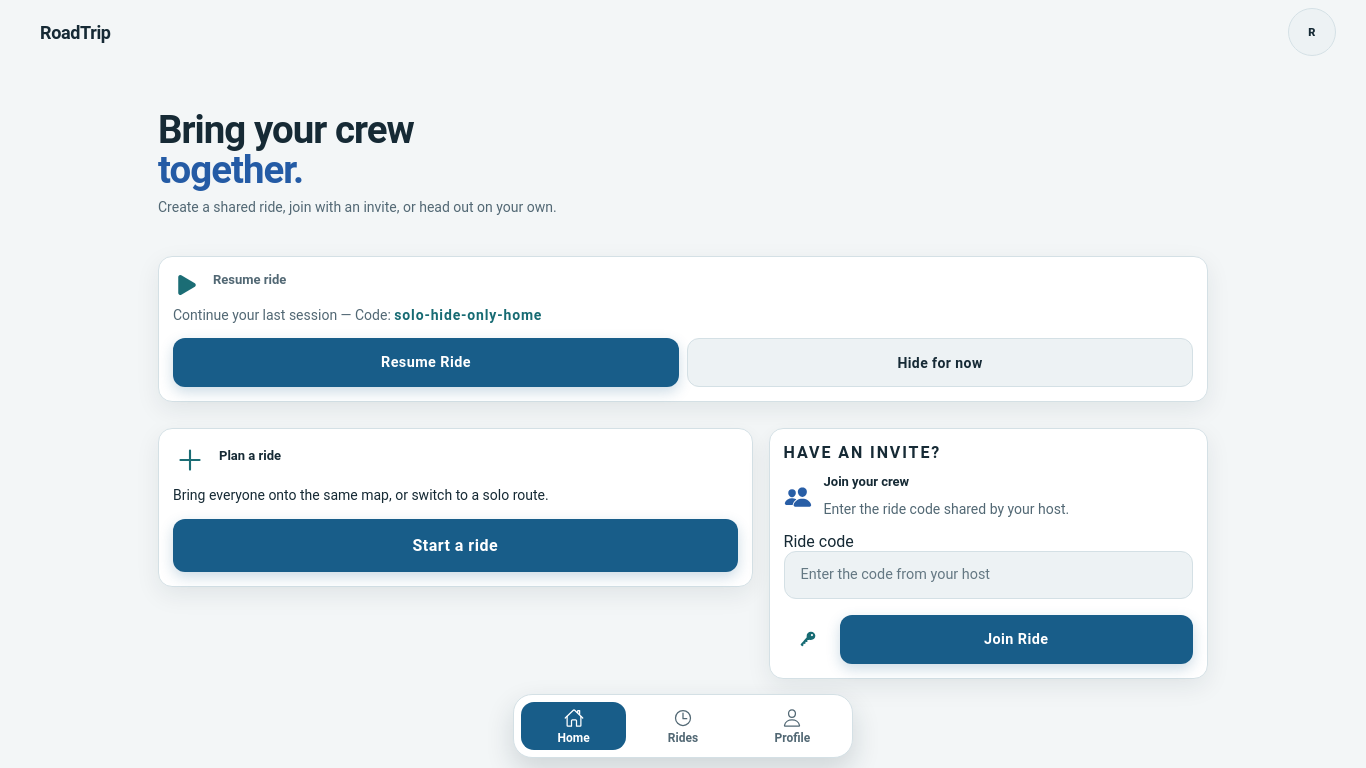
Scenario: Home actions and ride setup controls › hides a resume card only in the mounted Home view and restores it after reload with saved rows intact
Expected: the text "solo-hide-only-home" is shown, [394,307,542,323]
Click the button "Hide for now" at point(940, 363), box [687,338,1193,387]
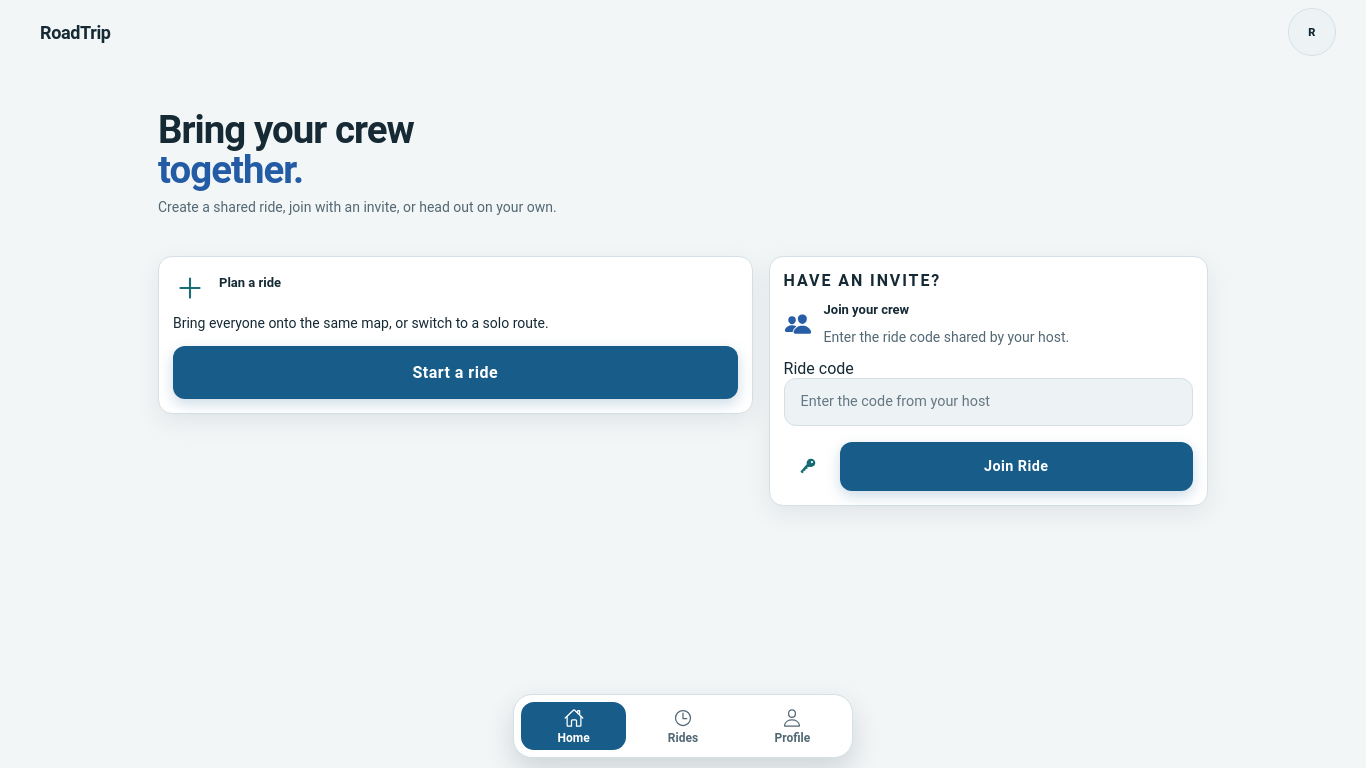
Expected: the element with class "crew-resume-card" is gone
Reload the page
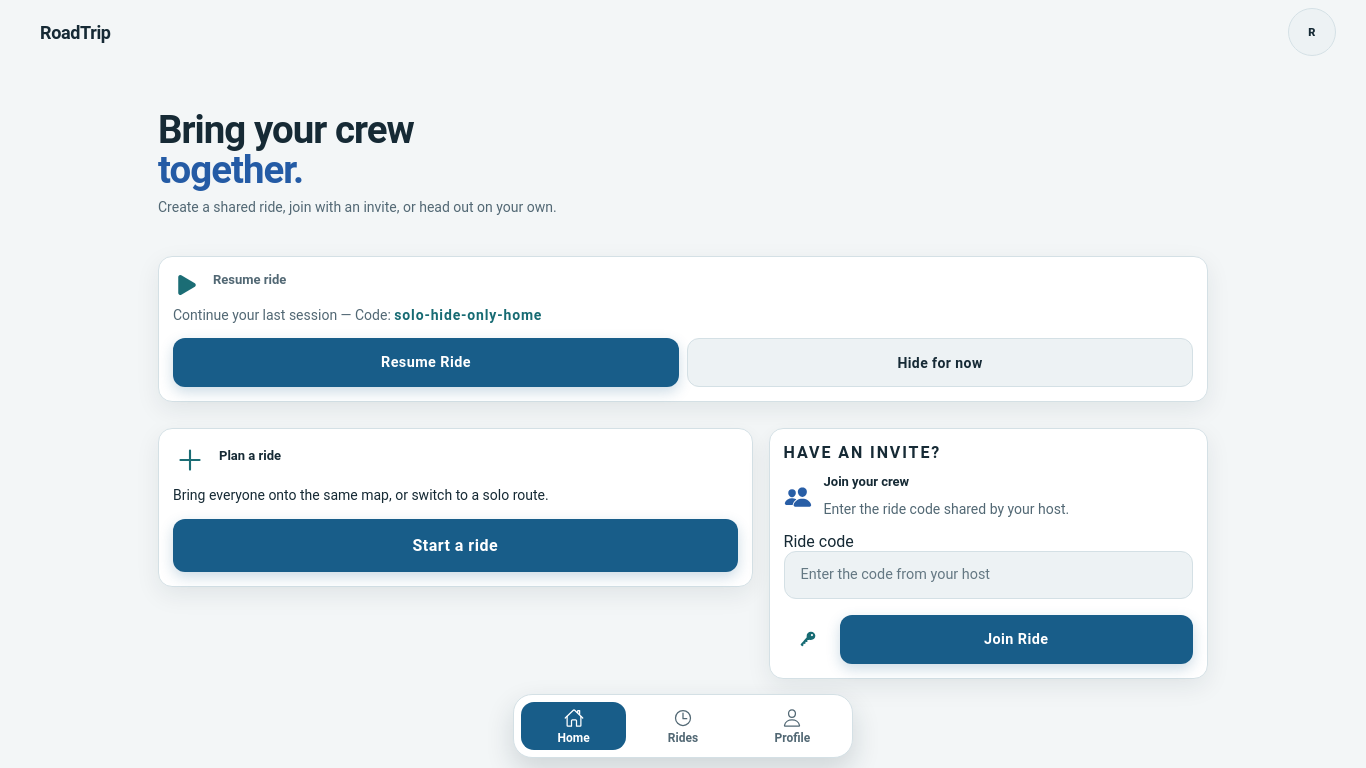
Expected: the text "solo-hide-only-home" is shown, [394,307,542,323]
